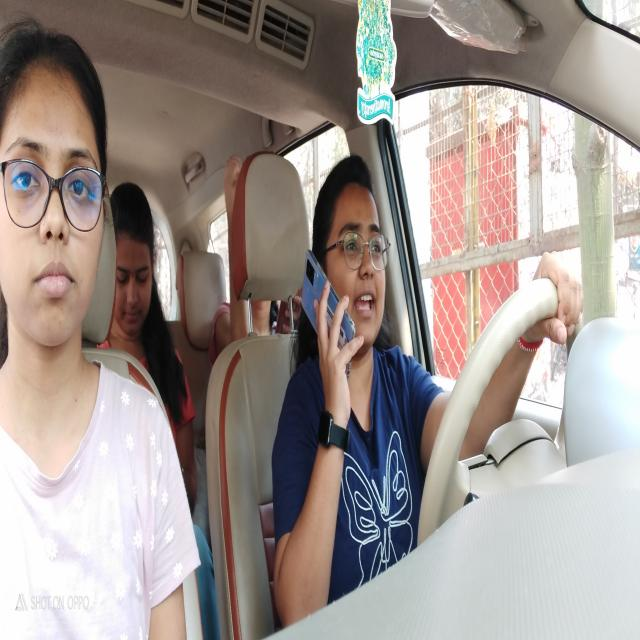mobile: (300, 252, 362, 370)
person: (1, 16, 110, 352), (313, 156, 393, 350), (111, 186, 163, 340)
